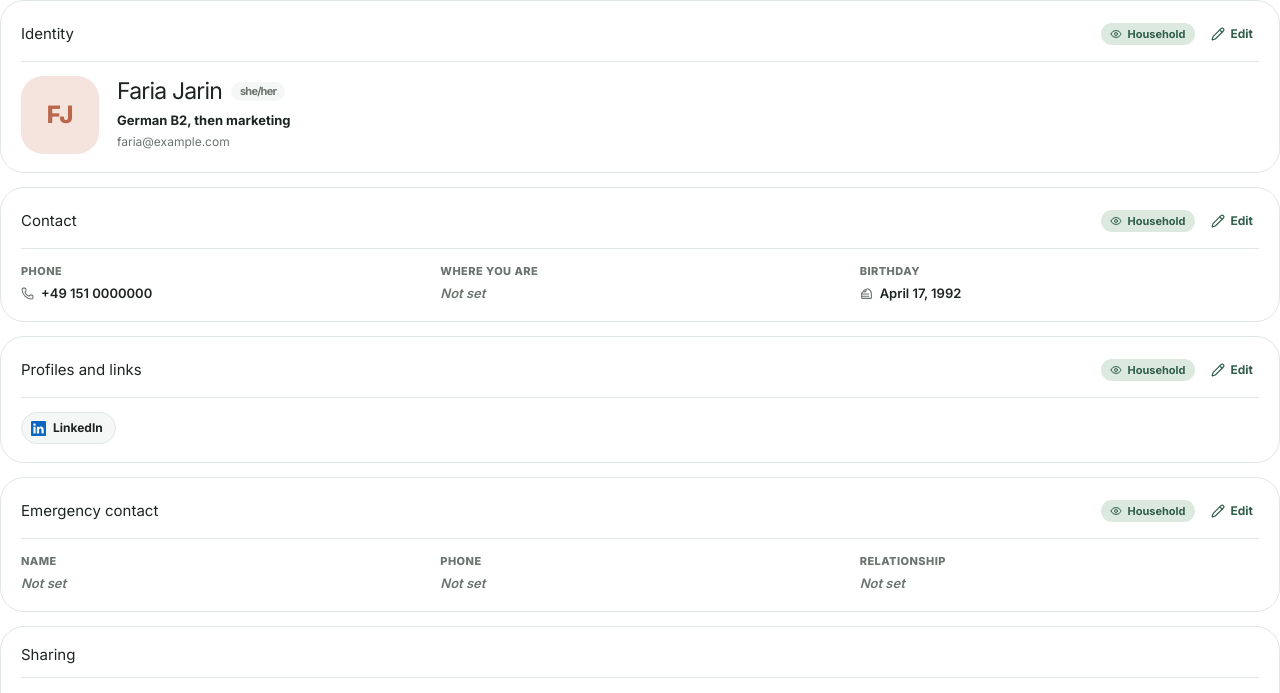
ProfileSettings › throws away an edit when cancelled
Expected: the heading "Faria Jarin she/her" is shown, [117,78,291,106]
Step 1. Click the button with aria-label "Edit identity" → {"x": 1232, "y": 34}, box [1204,19,1259,49]
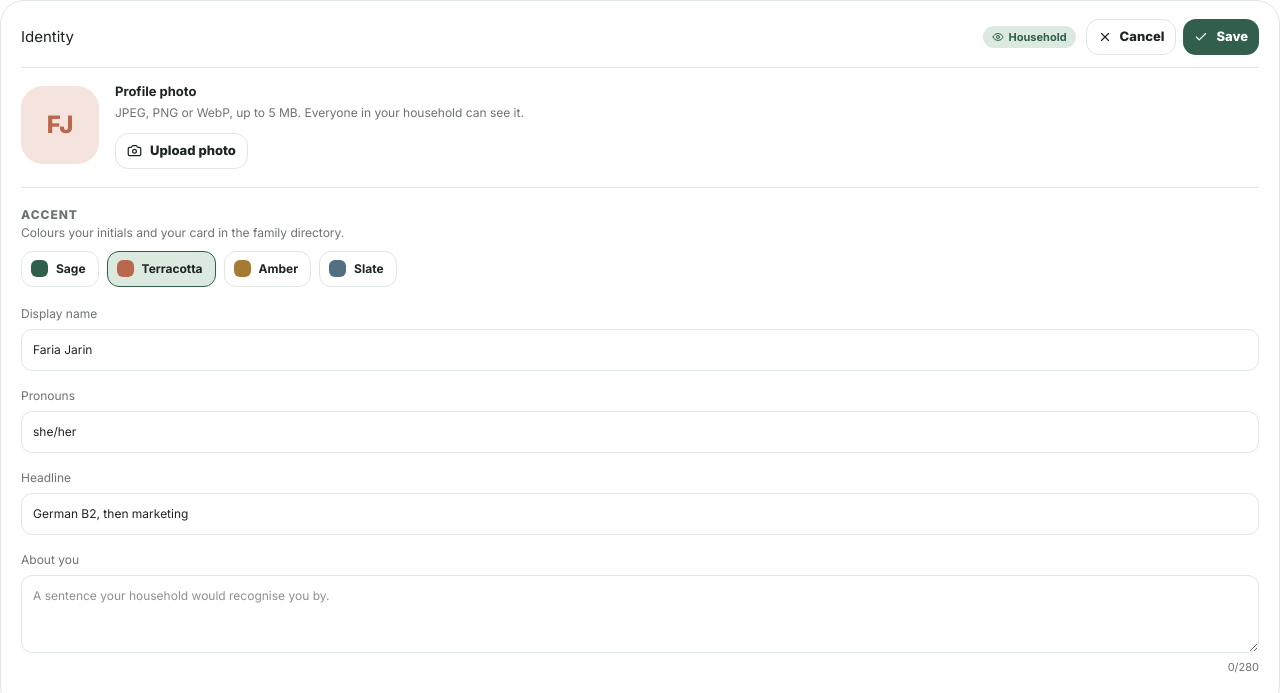
Step 2. Replace the text in the field labelled "Display name" with "Someone else" → {"x": 640, "y": 350}, box [21,328,1259,370]
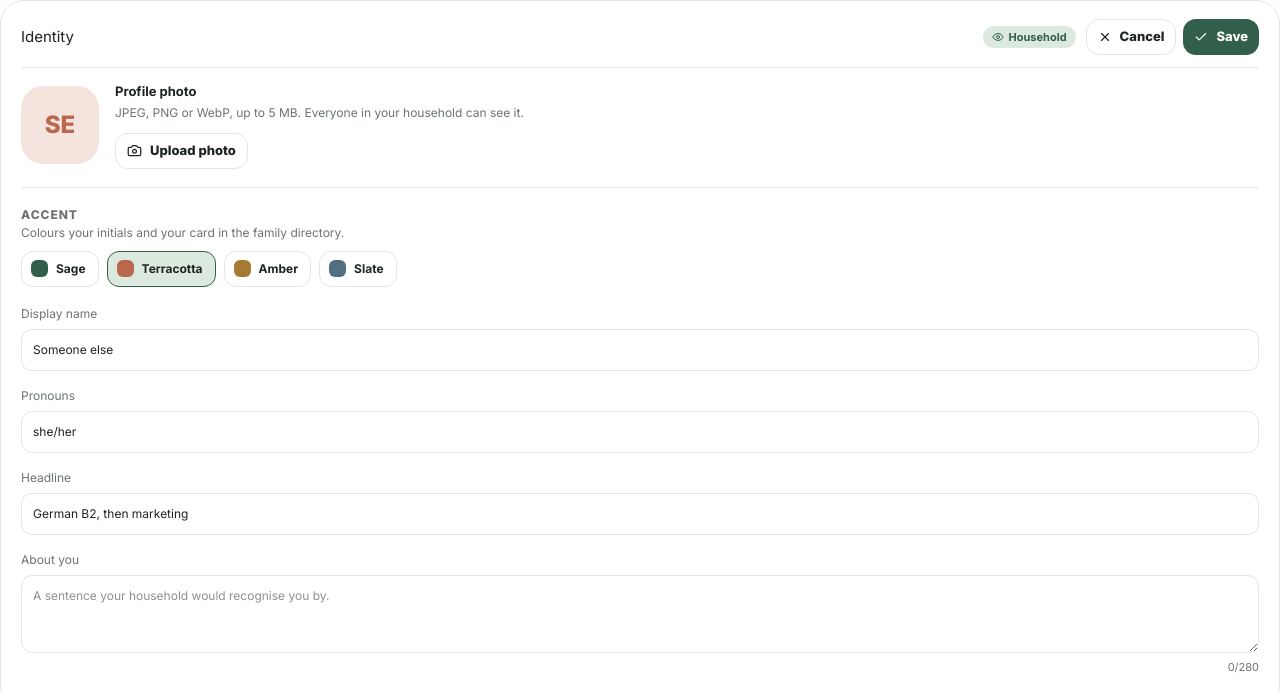
Step 3. Click the button "Cancel" → {"x": 1131, "y": 37}, box [1086,19,1176,54]
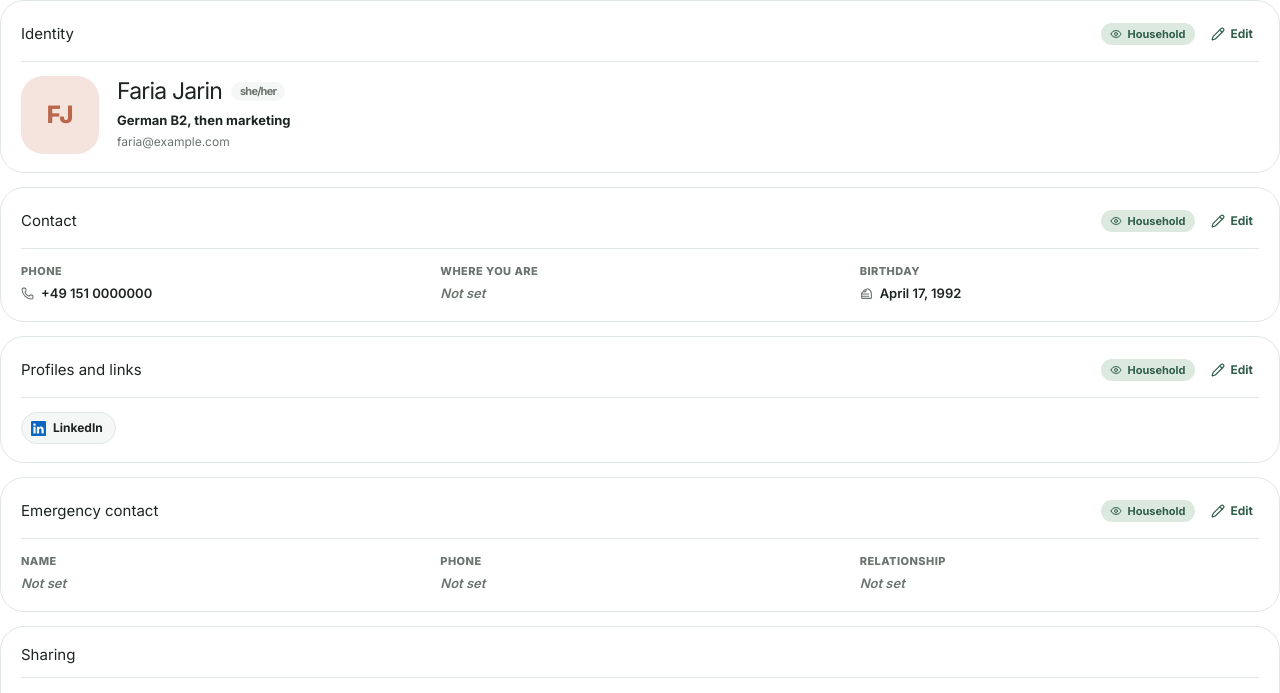
Now the heading "Faria Jarin she/her" is shown, box [117,78,291,106]
